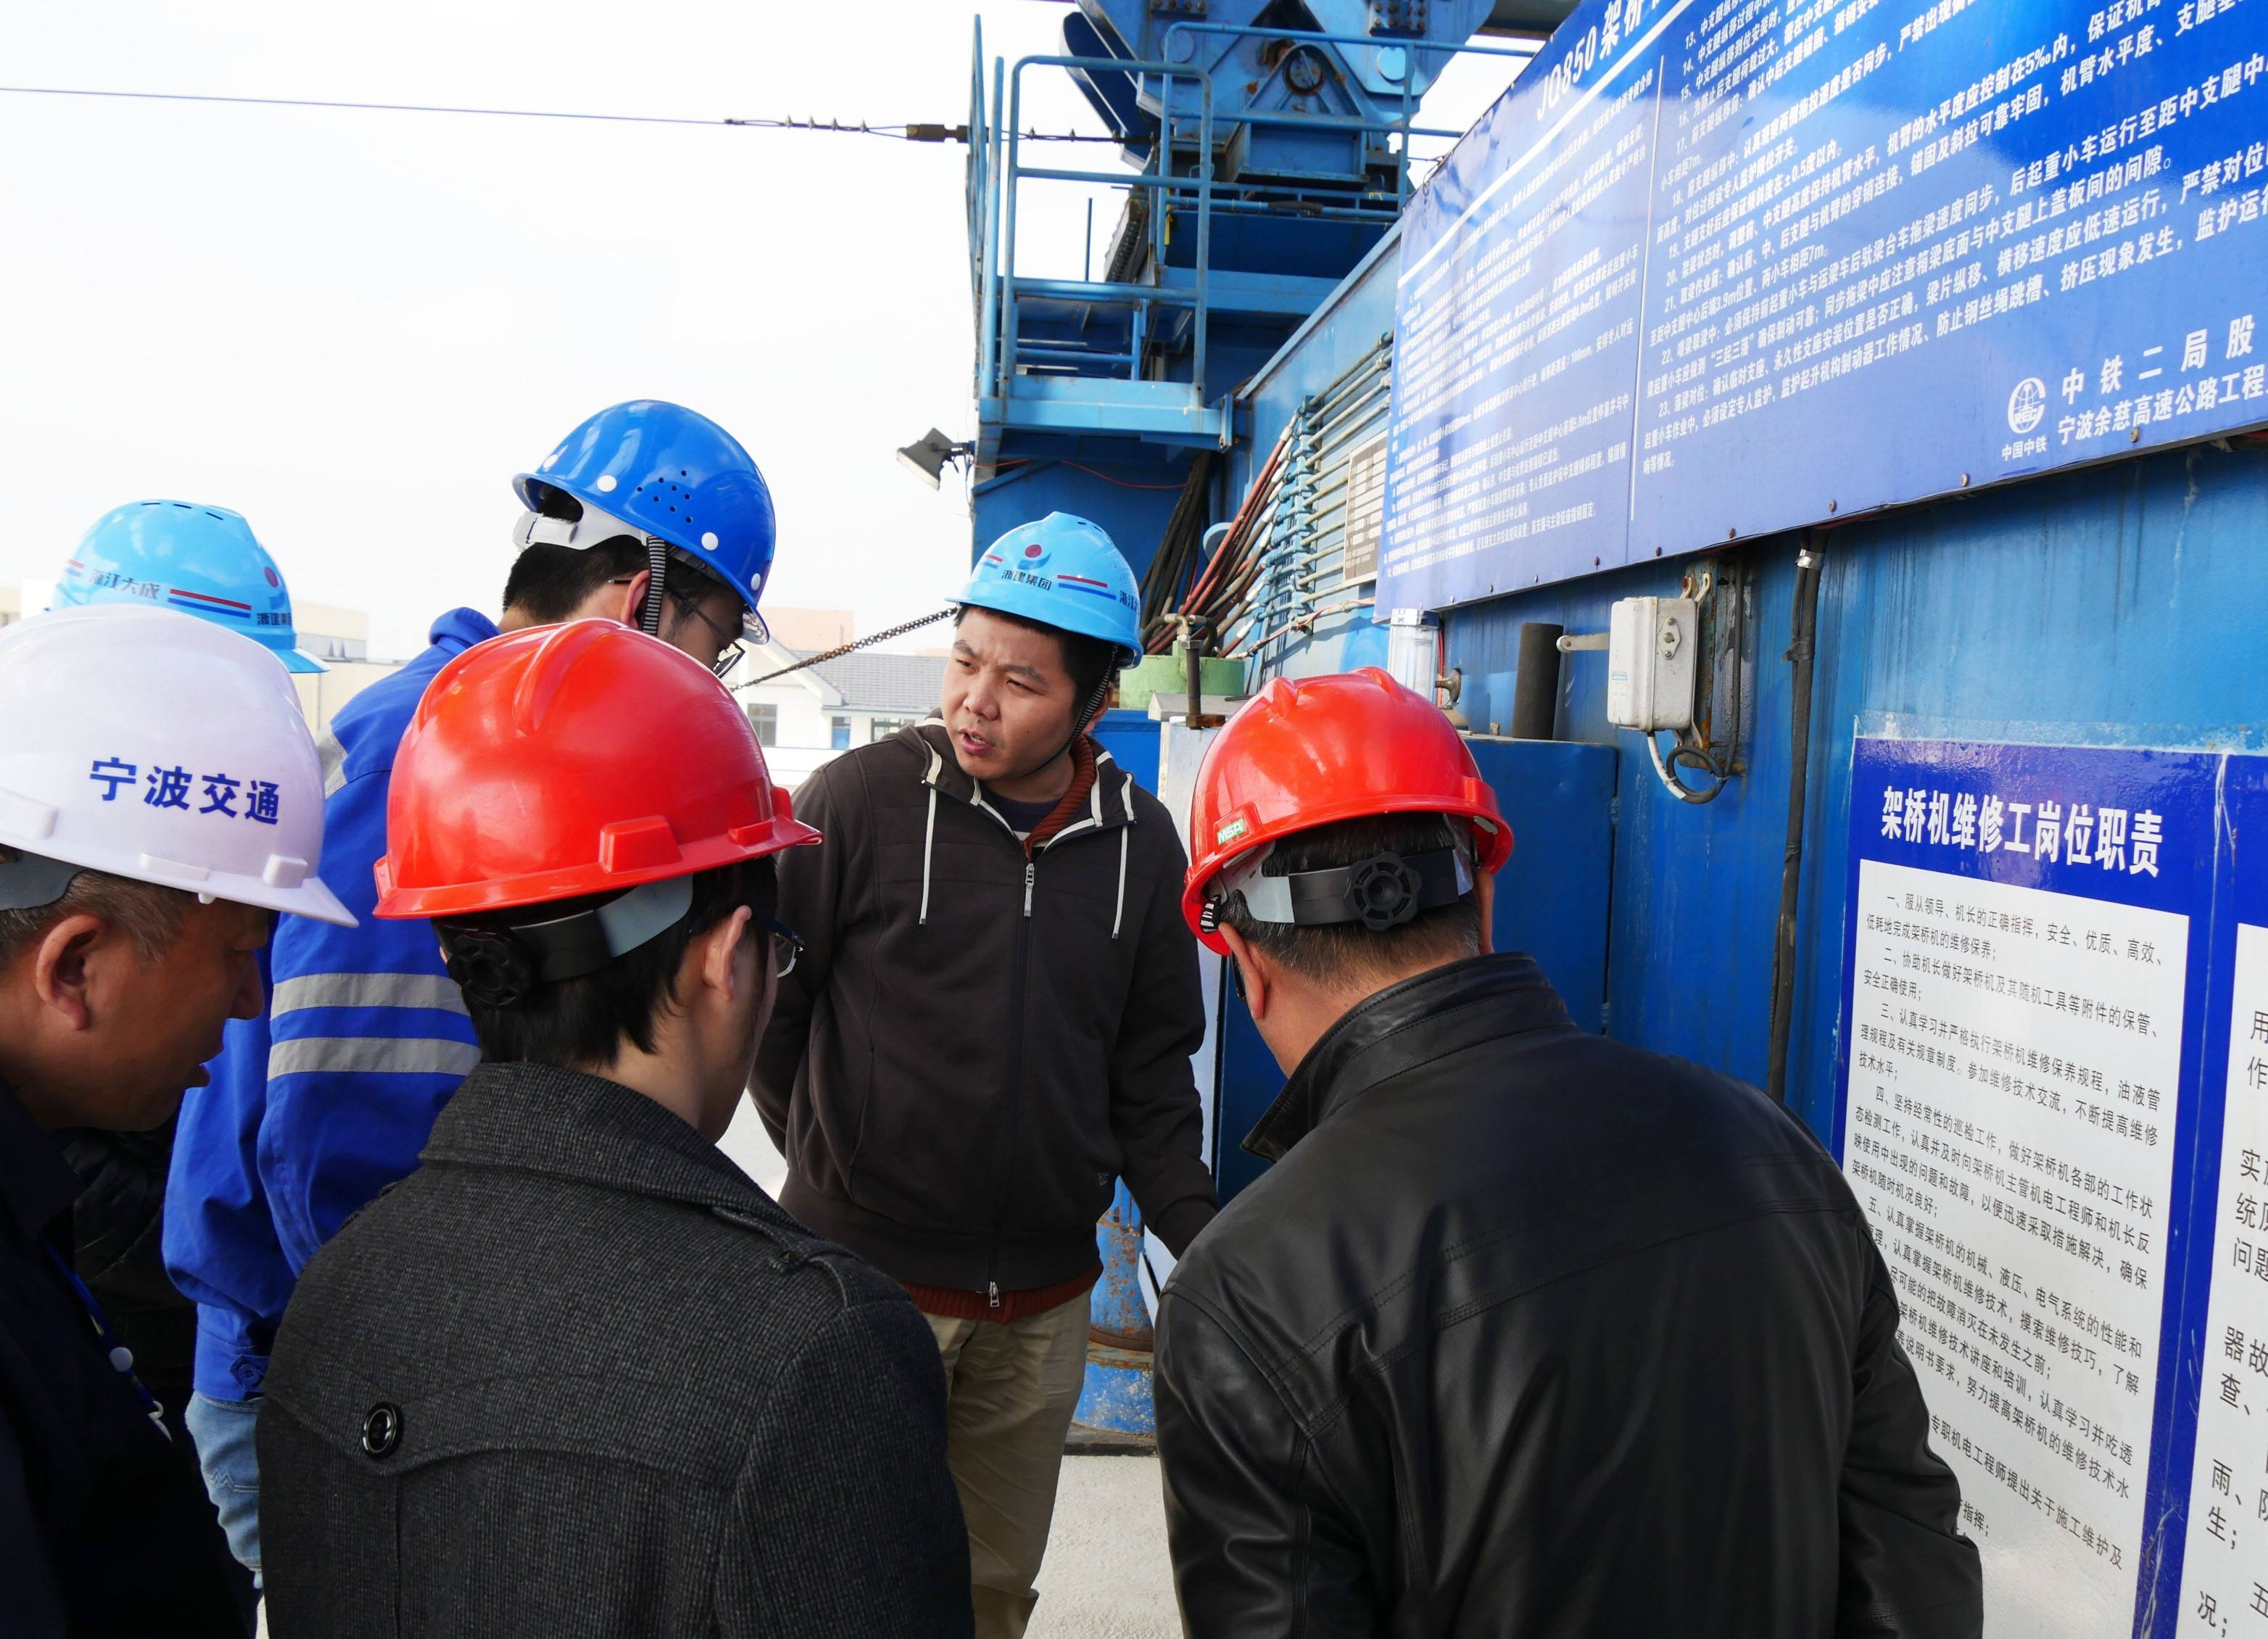blue: (493, 391, 785, 688), (935, 511, 1138, 783)
red: (396, 613, 792, 1132), (1182, 671, 1514, 1063)
white: (7, 592, 324, 1111)
